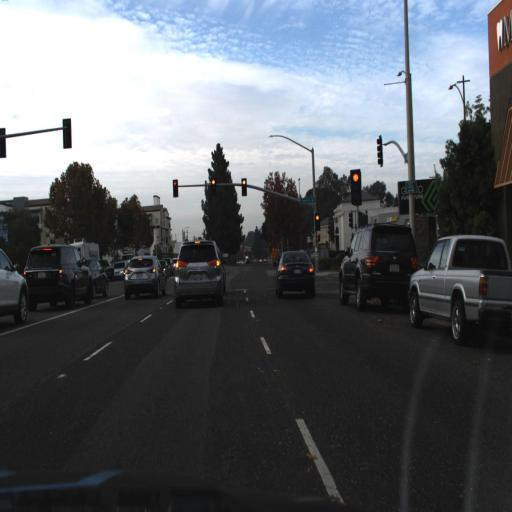car: (405, 232, 511, 343), (337, 221, 421, 311), (23, 244, 93, 311), (174, 239, 226, 309), (0, 245, 32, 327), (274, 249, 315, 299), (123, 253, 166, 300), (80, 257, 108, 295)
trafficLight: (172, 178, 179, 197)
trafficLight-Red: (349, 168, 362, 203), (313, 209, 322, 233), (210, 177, 217, 197), (240, 176, 246, 196), (315, 213, 321, 231)
truck: (68, 238, 100, 264)
